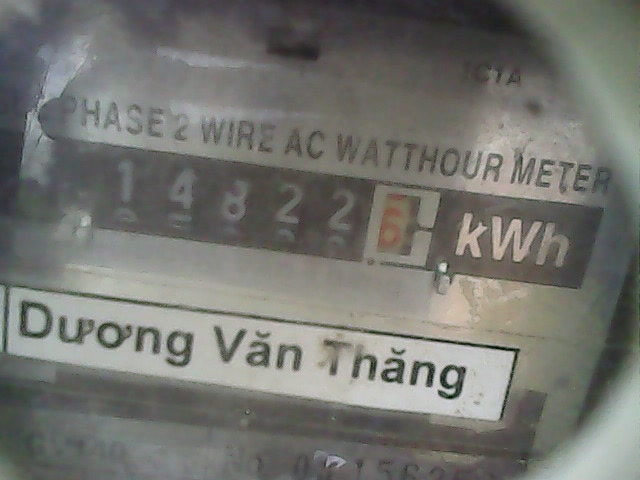phy_plate: (92, 141, 450, 281)
